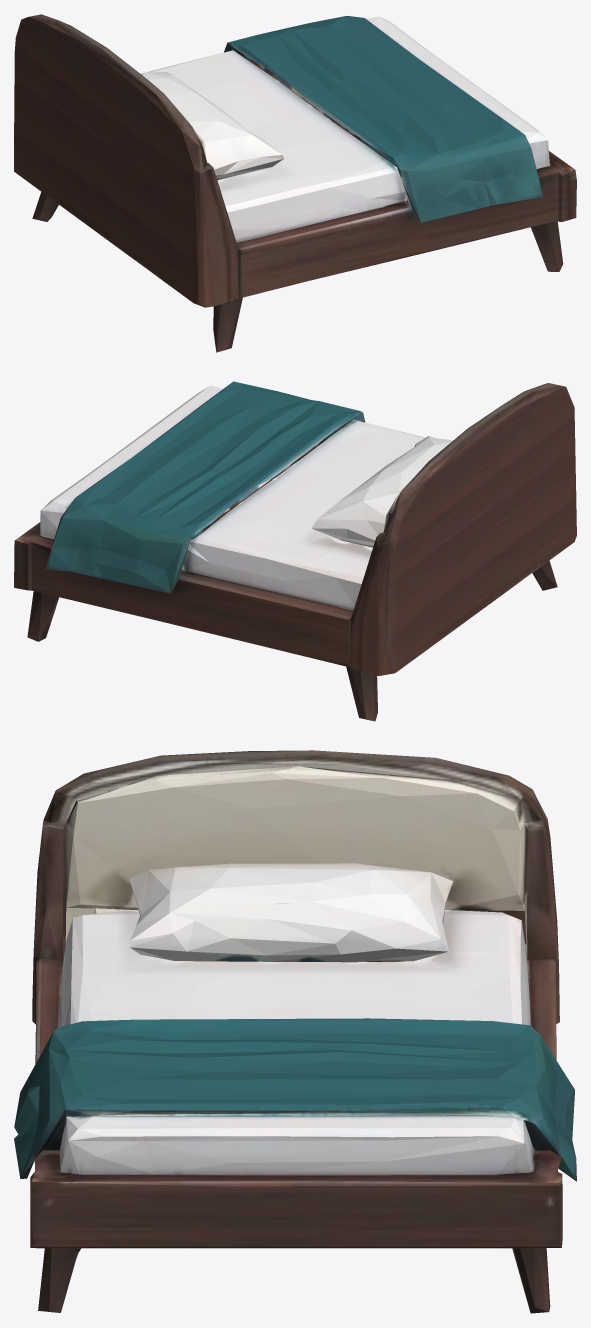
Rendered from bed.glb.
The picture shows the model from 3 angles, top to bottom: view 1: azimuth 30°, elevation 25°; view 2: azimuth 150°, elevation 25°; view 3: azimuth 270°, elevation 25°; orthographic projection. The views are drawn at different scales.
Parts seen in each view (by area): view 1: figure; view 2: figure; view 3: figure.
Part boxes in pixels (x1,y1,x2,y2): figure: (14,14,576,352); figure: (14,381,576,721); figure: (14,750,576,1313).
Bounding box in the file's own units: 1.66 × 1 × 1.58.
Materials: 1 (1 with a texture image).
